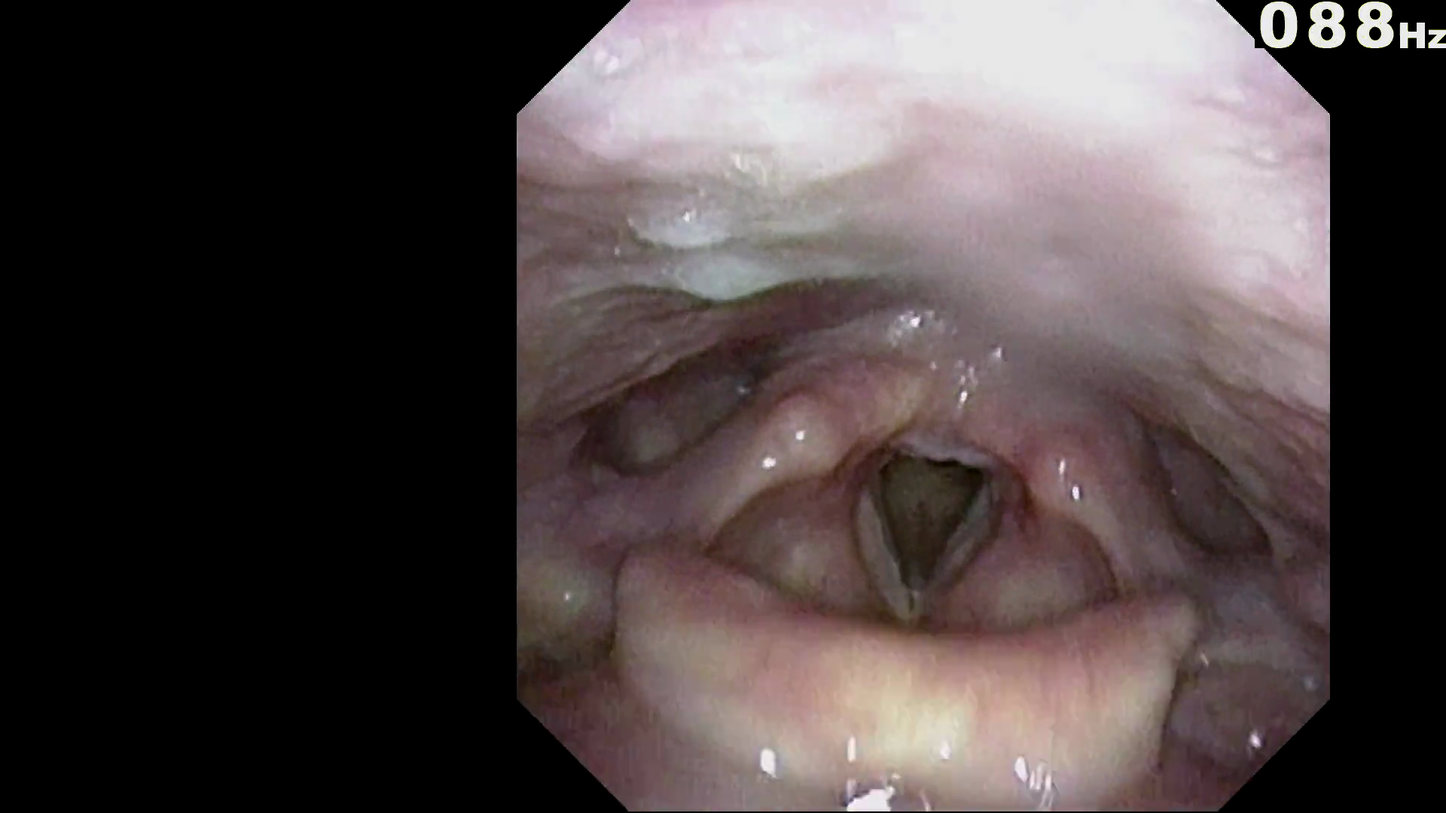epiglottis: (623, 559, 1182, 753)
trachea: (866, 431, 988, 601)
